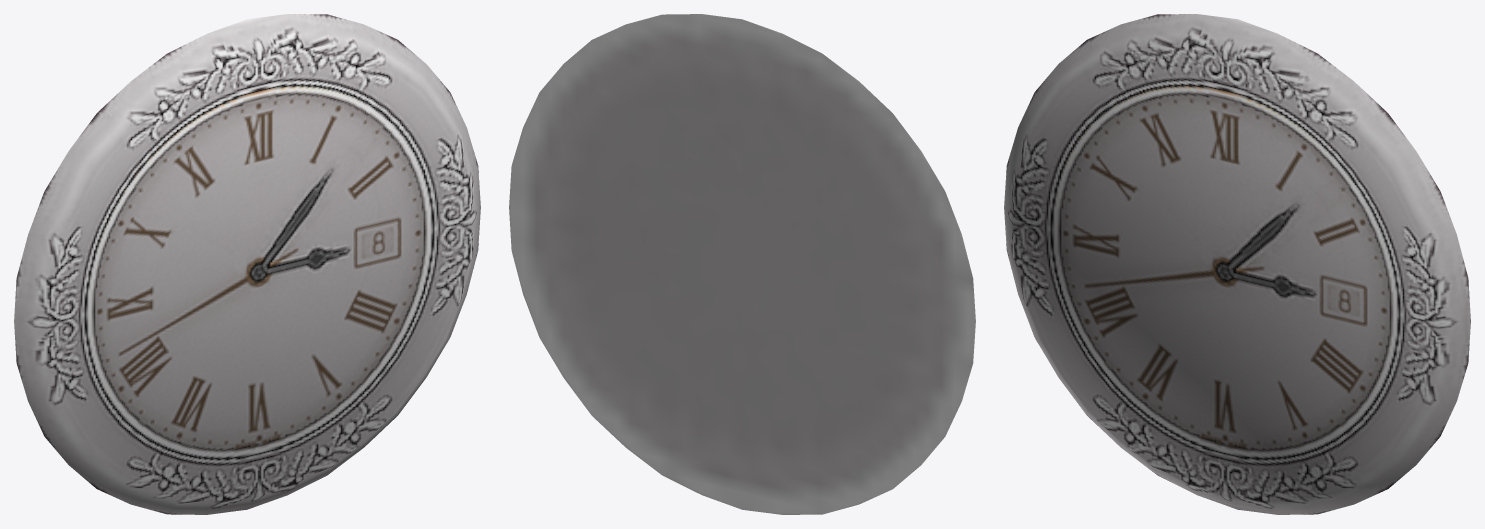
File: Clock02.FBX
3 views of the same model, side by side, from view 1: azimuth 30°, elevation 25°; view 2: azimuth 150°, elevation 25°; view 3: azimuth 330°, elevation 25° (orthographic).
Parts seen in each view (by area): view 1: Clock02; view 2: Clock02; view 3: Clock02.
Part boxes in pixels (x1,y1,x2,y2): Clock02: [14, 14, 480, 514]; Clock02: [509, 14, 975, 514]; Clock02: [1004, 14, 1470, 514].
Size of the model in its own units: 78.88 by 3.57 by 79.19.
